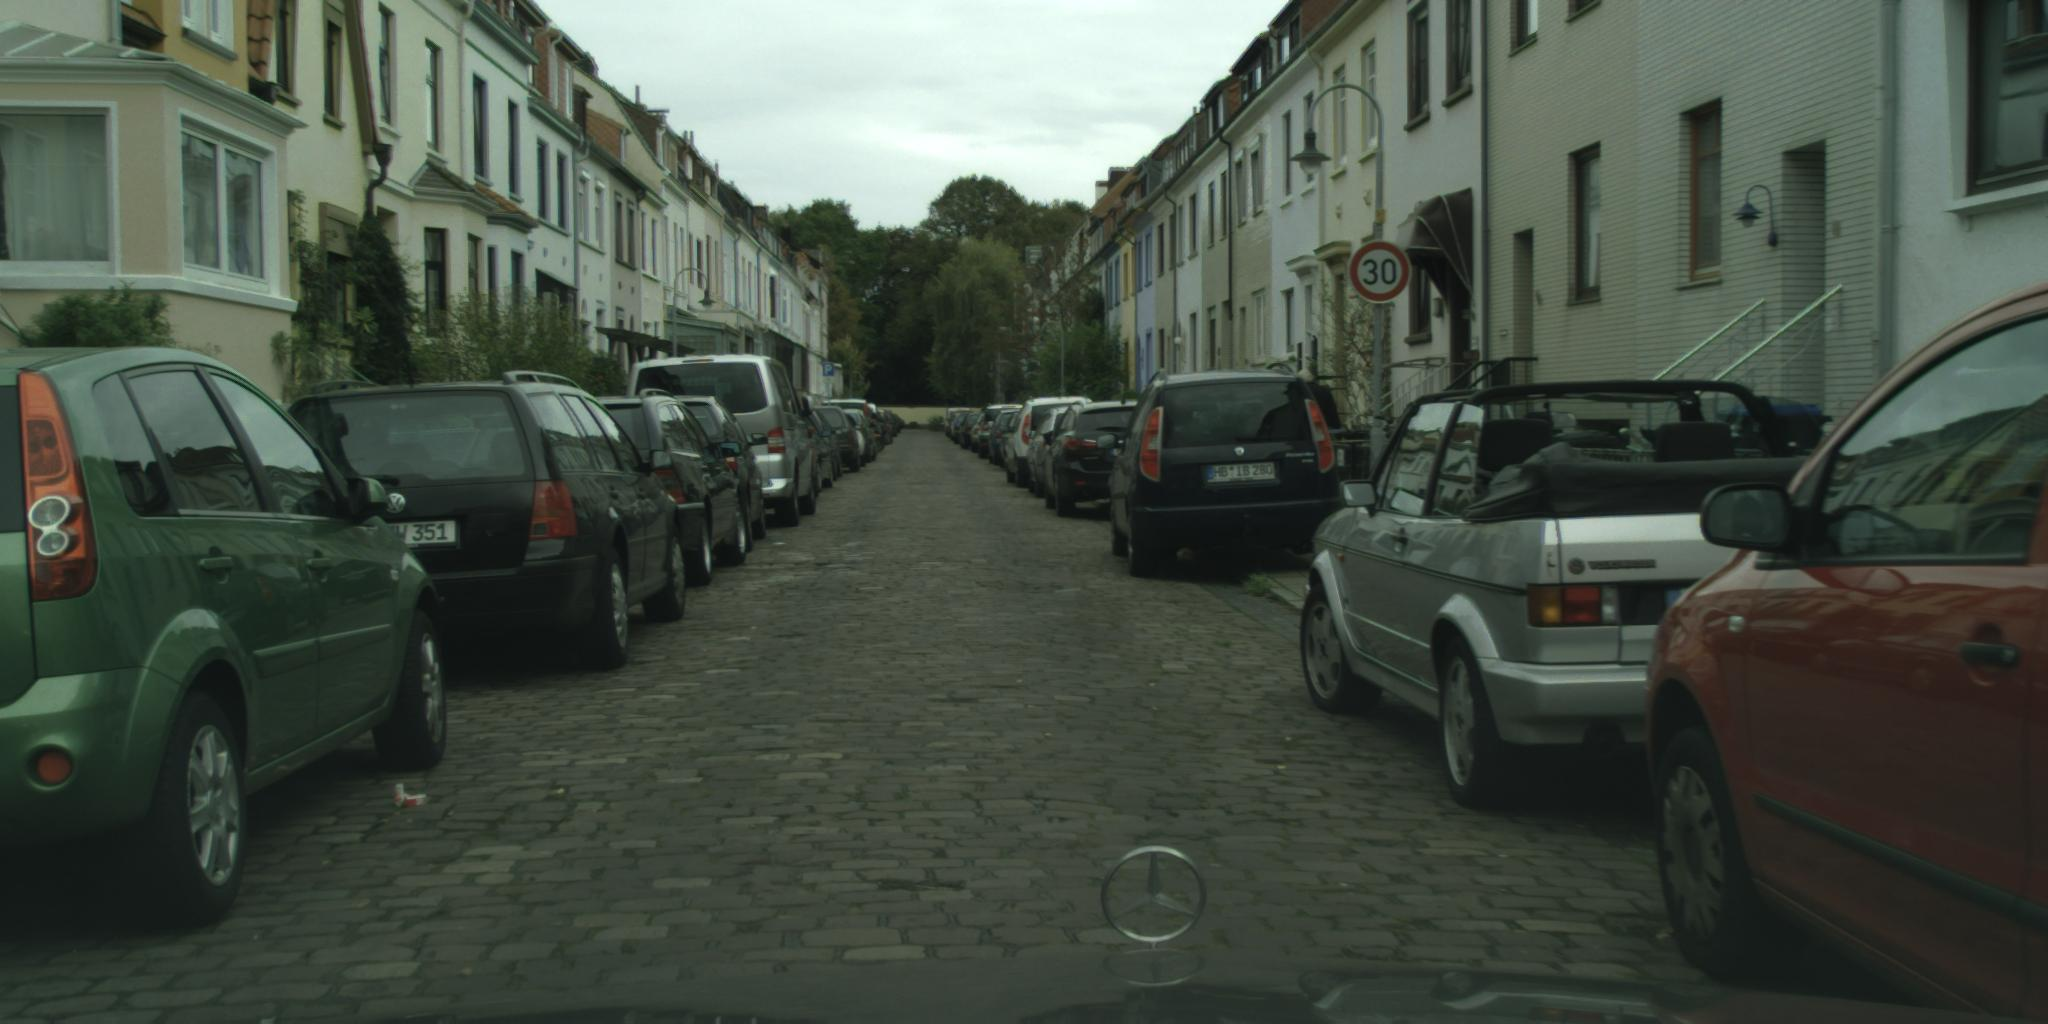car: (1646, 281, 2048, 1023), (1, 347, 451, 936), (1298, 377, 1826, 815), (273, 370, 688, 675), (1095, 362, 1347, 579), (573, 391, 748, 590), (631, 353, 818, 529), (640, 394, 773, 556), (1044, 398, 1162, 519), (1004, 397, 1101, 490), (1028, 404, 1106, 499), (798, 408, 863, 474), (792, 408, 844, 487), (828, 409, 880, 468), (987, 409, 1032, 469), (822, 397, 874, 438)
